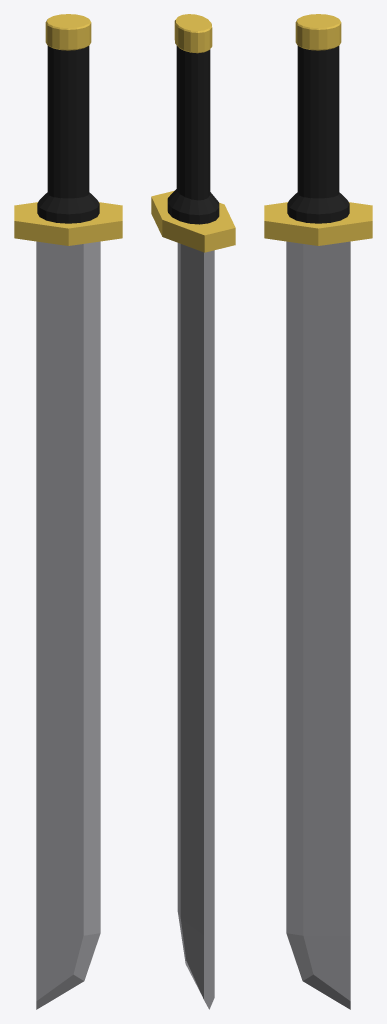
Rendered from WeebGhost_Katana.fbx.
3 renders of one model, left to right at view 1: azimuth 90°, elevation 25°; view 2: azimuth 210°, elevation 25°; view 3: azimuth 270°, elevation 25°, orthographic.
Visible parts, largest first — view 1: Cube; view 2: Cube; view 3: Cube.
Boxes of the visible parts, left/top/right/bottom form: Cube: left=14, top=14, right=122, bottom=1009; Cube: left=151, top=14, right=235, bottom=1009; Cube: left=264, top=14, right=372, bottom=1009.
Bounding box in the file's own units: 87.5 × 1311 × 130.
